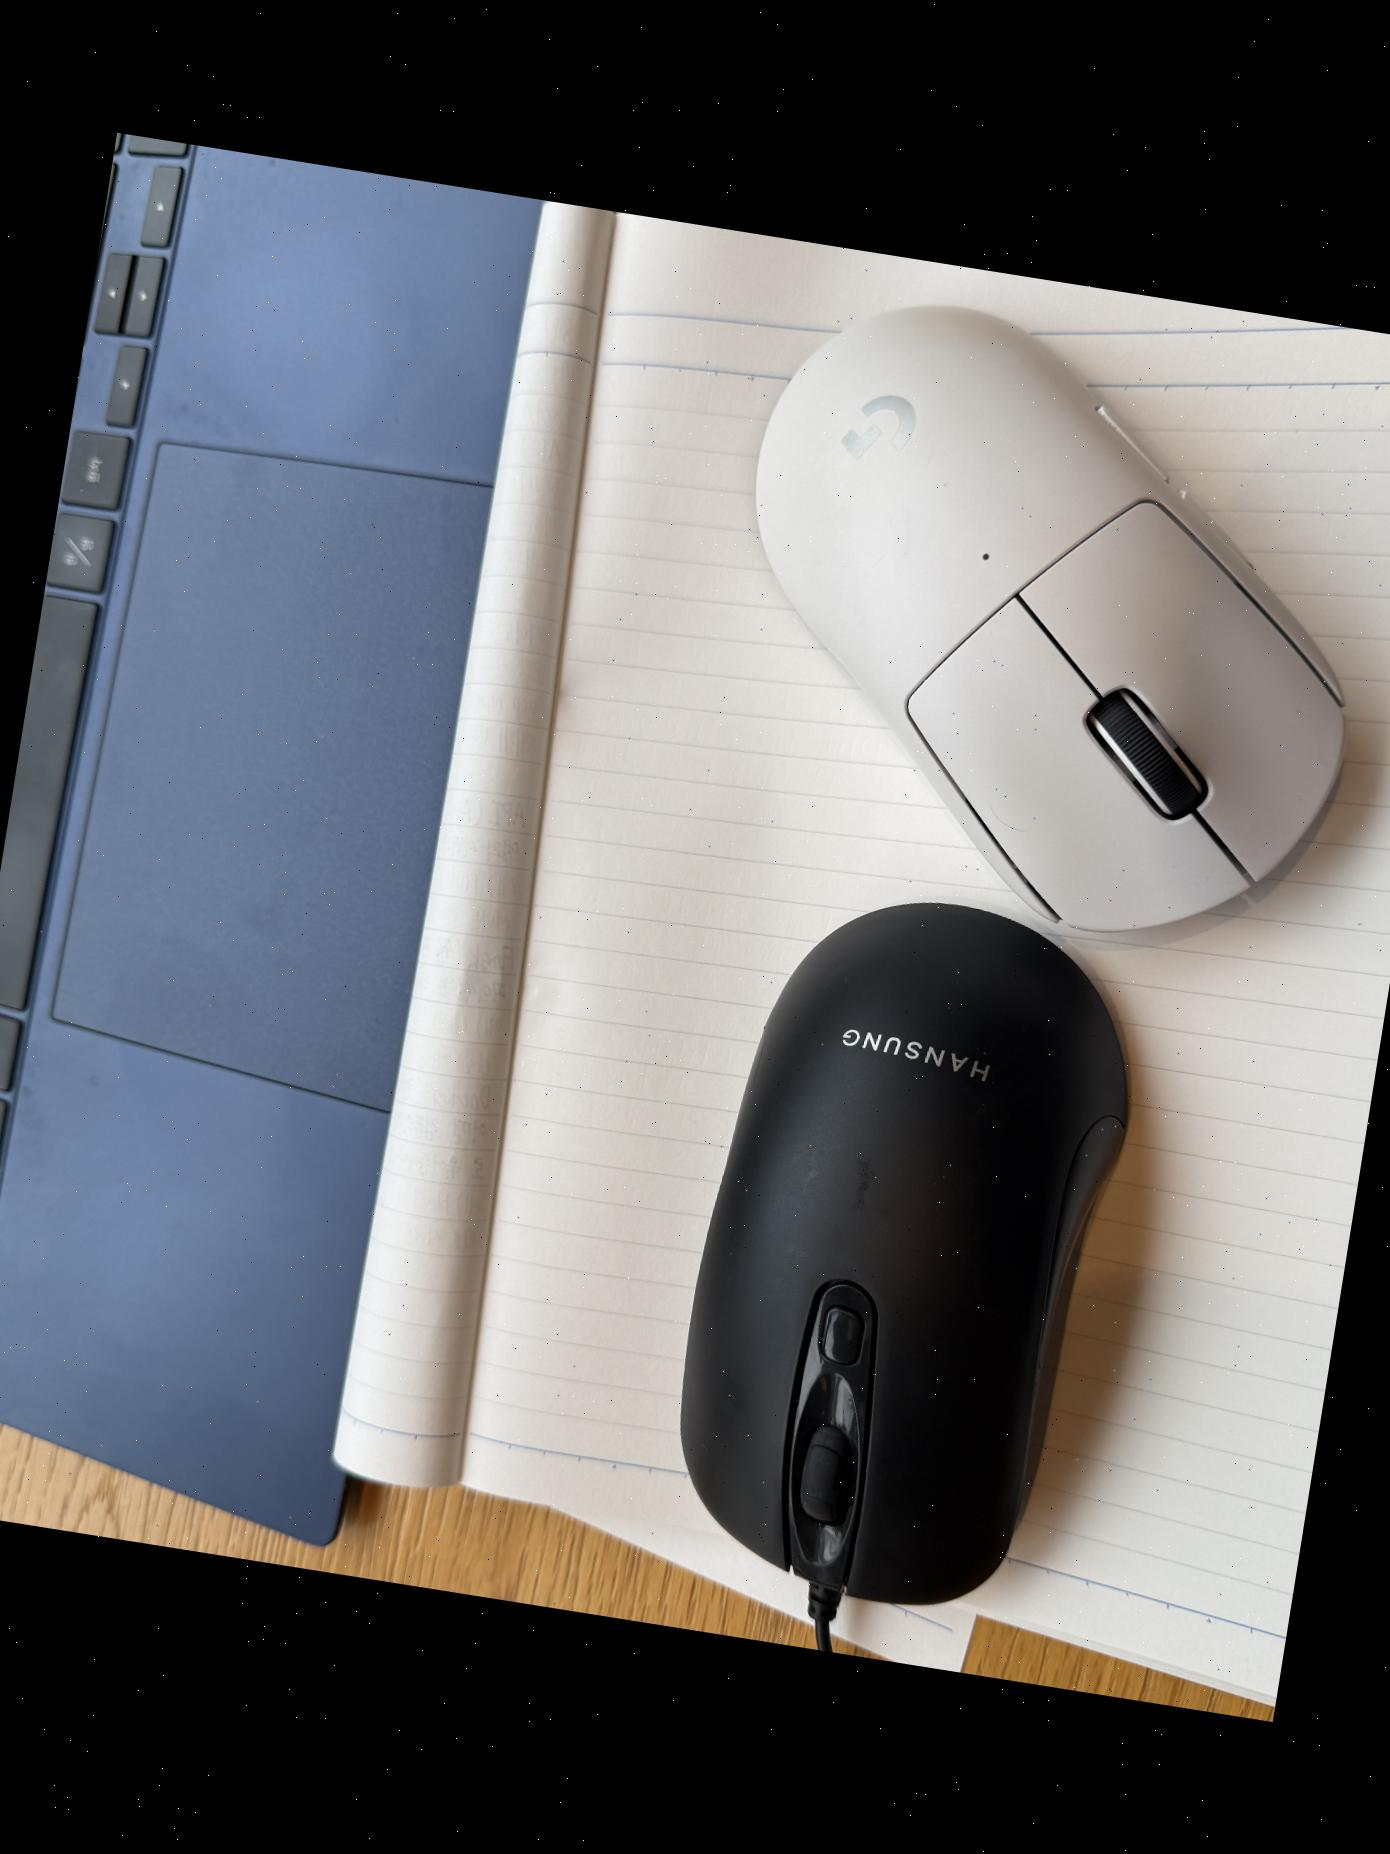front: (680, 269, 1390, 984), (642, 866, 1155, 1641)
